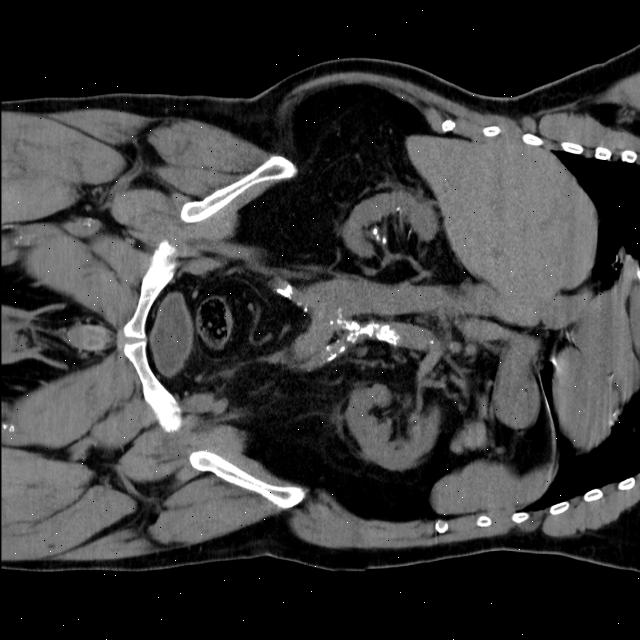kidneystone: (367, 231, 388, 246)
